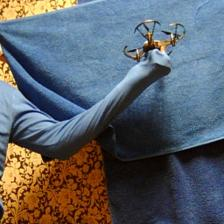drone: (124, 19, 188, 63)
